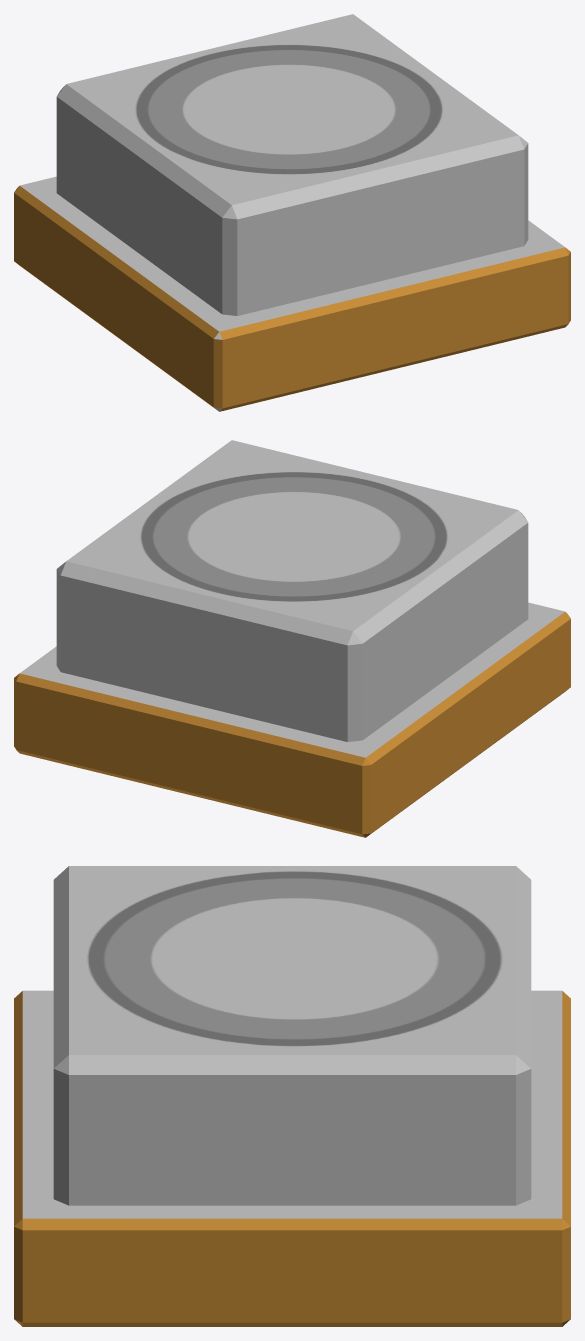
The model's file is DishHold.FBX.
The picture shows the model from 3 angles, top to bottom: view 1: azimuth 30°, elevation 25°; view 2: azimuth 150°, elevation 25°; view 3: azimuth 270°, elevation 25°; orthographic projection. The views are drawn at different scales.
Visible parts, largest first — view 1: Box001; view 2: Box001; view 3: Box001.
Part boxes in pixels (box(x1,y1,x2,y2)): Box001: box(14, 14, 570, 411); Box001: box(14, 440, 570, 837); Box001: box(14, 866, 570, 1326).
Bounding box in the file's own units: 140 × 140 × 70.
1 material, 1 textured.
